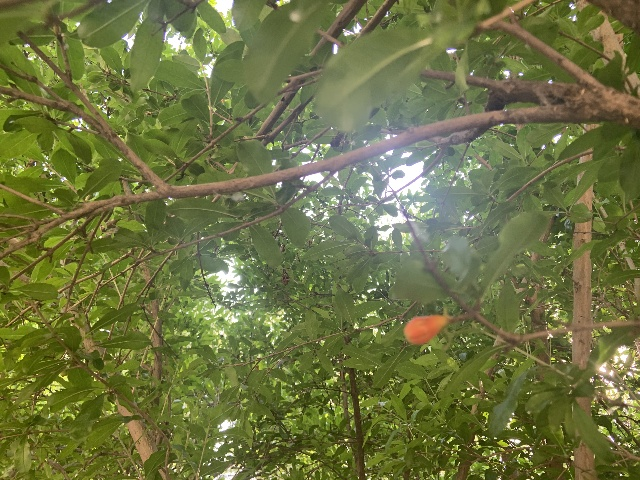bud: (404, 315, 449, 345)
